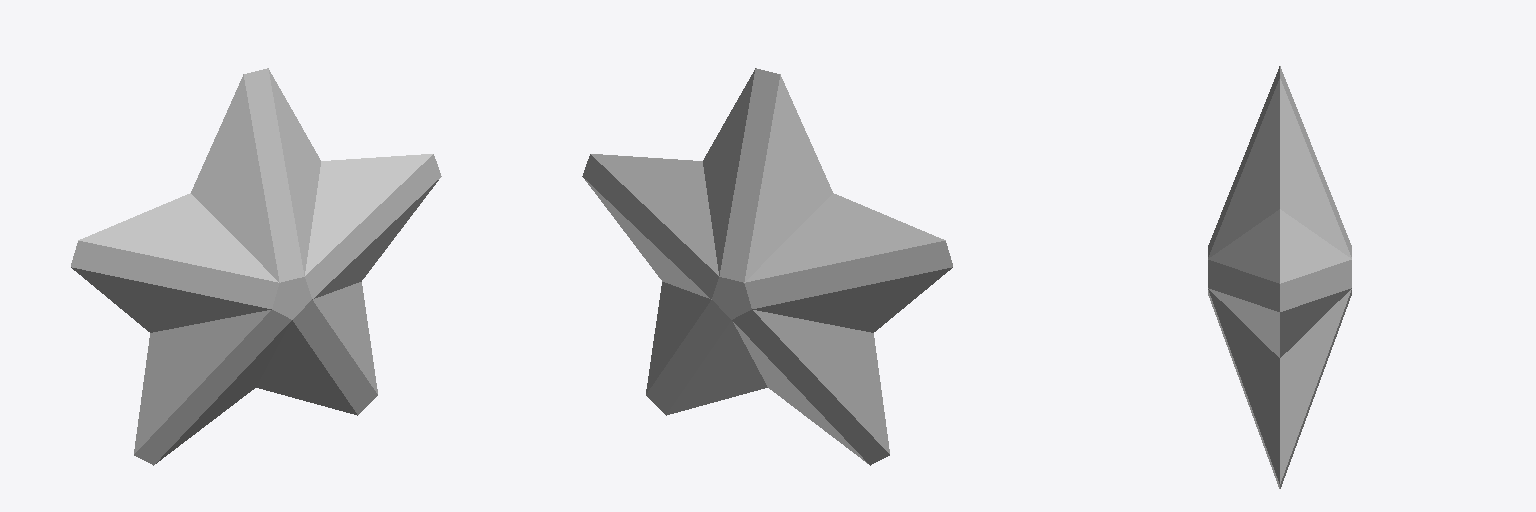
Rendered from star.obj.
3 renders of one model, left to right at view 1: azimuth 30°, elevation 25°; view 2: azimuth 150°, elevation 25°; view 3: azimuth 270°, elevation 25°, orthographic.
Visible parts, largest first — view 1: Circle_Circle.004; view 2: Circle_Circle.004; view 3: Circle_Circle.004.
Part boxes in pixels (x1,y1,x2,y2): Circle_Circle.004: (71, 68, 441, 465); Circle_Circle.004: (582, 68, 952, 465); Circle_Circle.004: (1208, 66, 1351, 488).
Bounding box in the file's own units: 1.73 × 1.64 × 0.5828.